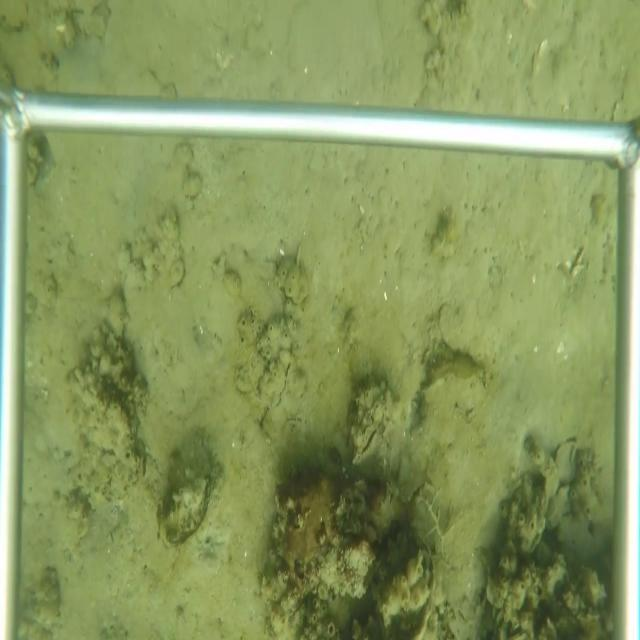Oyster-Closed: (154, 475, 214, 551), (258, 350, 296, 435), (350, 418, 384, 470)
